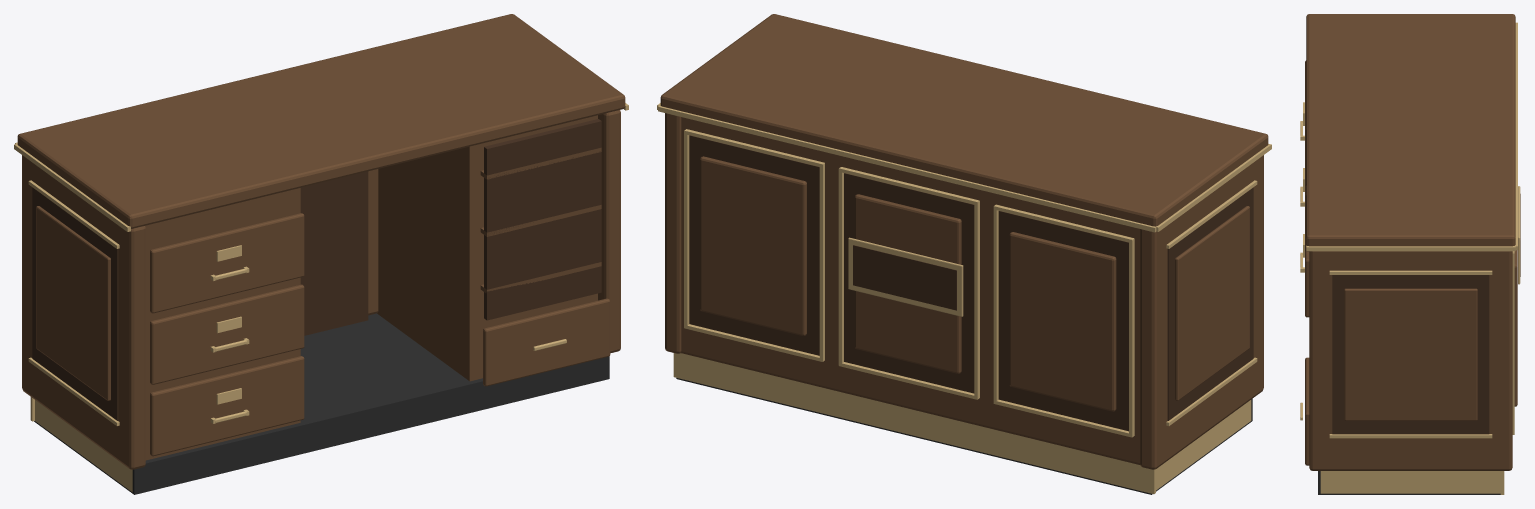
File: guide_desk.glb
3 renders of one model, left to right at view 1: azimuth 30°, elevation 25°; view 2: azimuth 150°, elevation 25°; view 3: azimuth 270°, elevation 25°, orthographic. The views are drawn at different scales.
Parts seen in each view (by area): view 1: gd_walnut, gd_walnutDark, gd_plinth, gd_brass; view 2: gd_walnut, gd_brass, gd_walnutDark, gd_plinth; view 3: gd_walnut, gd_brass, gd_walnutDark, gd_plinth.
Part boxes in pixels (box(x1,y1,x2,y2)): gd_walnut: box(17, 14, 625, 469); gd_walnutDark: box(32, 119, 601, 420); gd_plinth: box(34, 313, 609, 494); gd_brass: box(14, 103, 628, 492); gd_walnut: box(660, 14, 1268, 469); gd_brass: box(657, 103, 1271, 494); gd_walnutDark: box(689, 135, 1253, 431); gd_plinth: box(676, 378, 1252, 494); gd_walnut: box(1305, 14, 1517, 470); gd_brass: box(1300, 22, 1520, 494); gd_walnutDark: box(1332, 194, 1520, 434); gd_plinth: box(1318, 471, 1500, 494).
Bounding box in the file's own units: 1.84 × 1 × 0.759.
